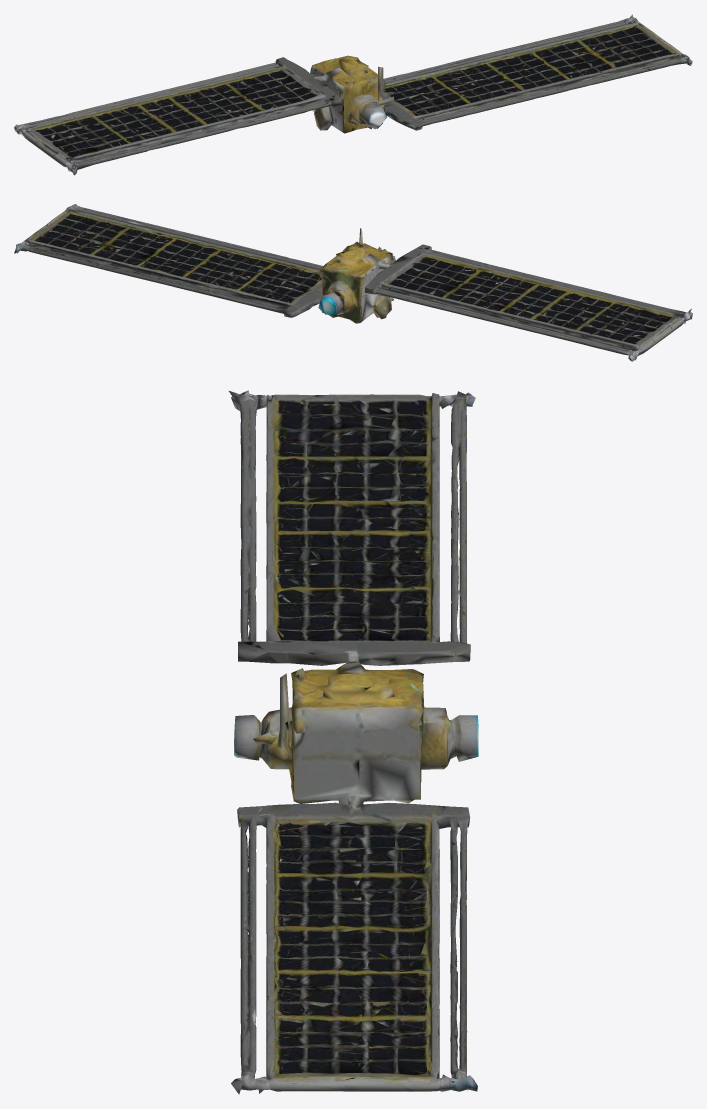
Rendered from dart-low.glb.
The picture shows the model from 3 angles, top to bottom: view 1: azimuth 30°, elevation 25°; view 2: azimuth 150°, elevation 25°; view 3: azimuth 270°, elevation 25°; orthographic projection. The views are drawn at different scales.
Size of the model in its own units: 1.9 by 0.1968 by 0.3313.
Materials: 1 (1 with a texture image).
